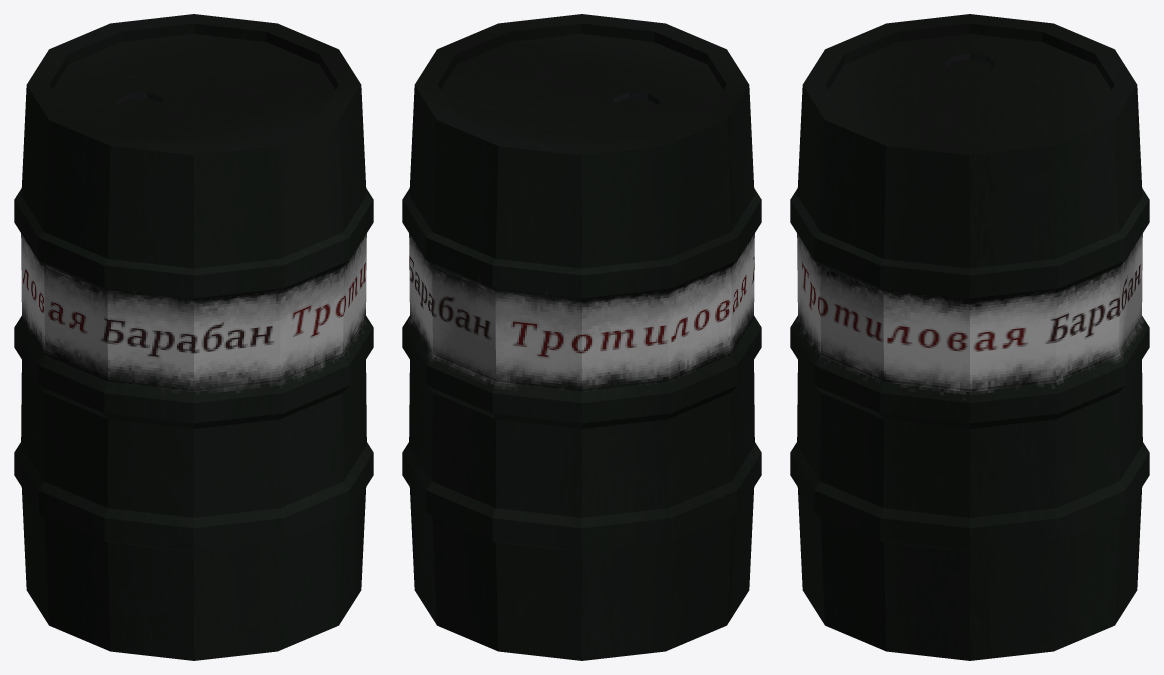
The model's file is CoveredBarrel.glb.
The picture shows the model from 3 angles, left to right: view 1: azimuth 30°, elevation 25°; view 2: azimuth 150°, elevation 25°; view 3: azimuth 270°, elevation 25°; orthographic projection.
Visible parts, largest first — view 1: Cylinder; view 2: Cylinder; view 3: Cylinder.
Boxes of the visible parts, <box> form: Cylinder: <box>14,14,373,660</box>; Cylinder: <box>402,14,761,660</box>; Cylinder: <box>790,14,1149,660</box>.
Size of the model in its own units: 0.644 by 1 by 0.644.
1 material, 1 textured.
